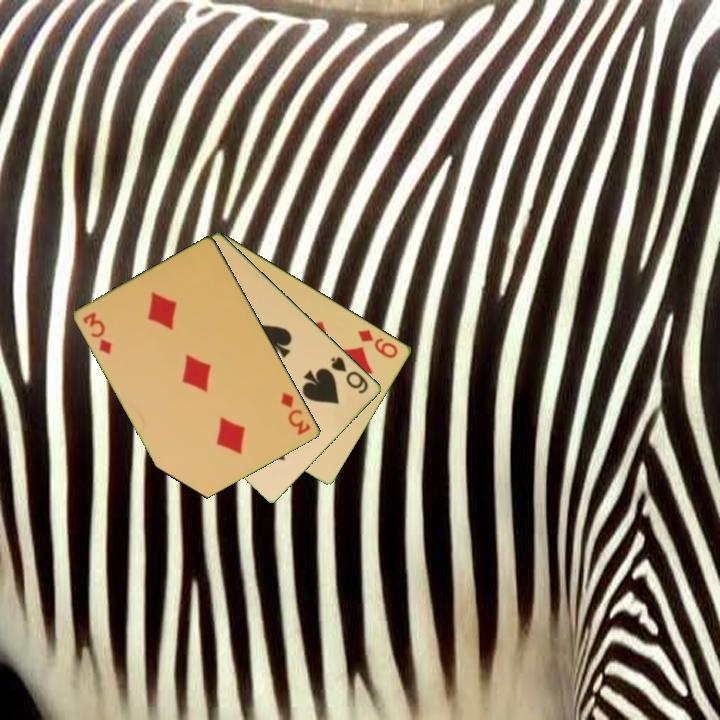3d: (277, 389, 314, 438), (79, 308, 115, 358)
6s: (328, 353, 372, 397)
9d: (355, 326, 401, 361)
